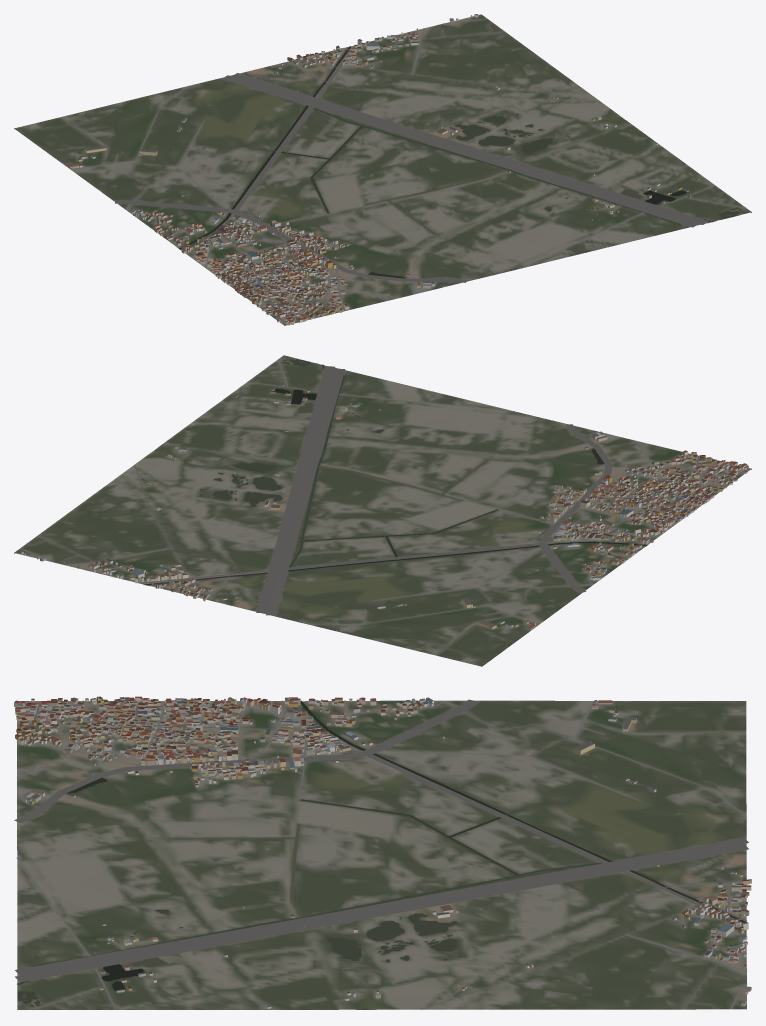
The picture shows the model from 3 angles, top to bottom: view 1: azimuth 30°, elevation 25°; view 2: azimuth 150°, elevation 25°; view 3: azimuth 270°, elevation 25°; orthographic projection. The views are drawn at different scales.
Visible parts, largest first — view 1: ground, buildings, roads, water; view 2: ground, buildings, roads, water; view 3: ground, buildings, roads, water.
Boxes of the visible parts, bbox=[...] form: ground: bbox=[14, 14, 751, 325]; buildings: bbox=[64, 14, 690, 325]; roads: bbox=[70, 18, 746, 325]; water: bbox=[179, 46, 741, 278]; ground: bbox=[14, 355, 751, 666]; buildings: bbox=[19, 384, 748, 629]; roads: bbox=[20, 359, 750, 643]; water: bbox=[145, 358, 647, 585]; ground: bbox=[17, 700, 746, 1009]; buildings: bbox=[14, 696, 751, 1008]; roads: bbox=[14, 699, 748, 1009]; water: bbox=[17, 700, 745, 1009].
Size of the model in its own units: 1409 by 20.3 by 1418.
